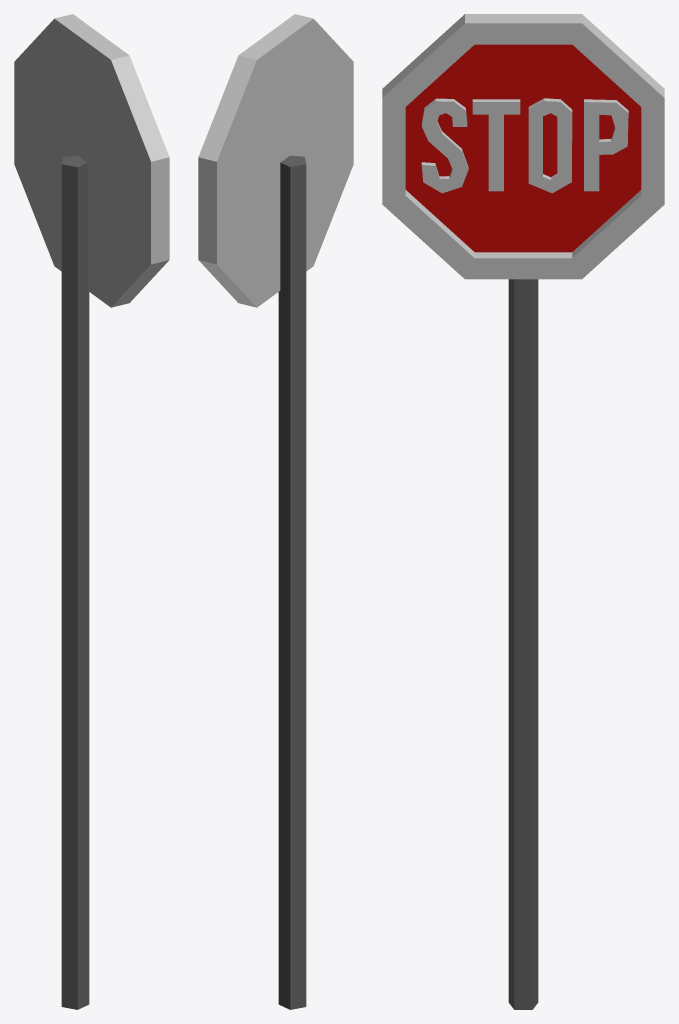
The model's file is prop_Sign_Stop.glb.
3 views of the same model, side by side, from view 1: azimuth 30°, elevation 25°; view 2: azimuth 150°, elevation 25°; view 3: azimuth 270°, elevation 25° (orthographic). The views are drawn at different scales.
Visible parts, largest first — view 1: Stop; view 2: Stop; view 3: Stop.
Part boxes in pixels (left/top/right/bottom): Stop: left=14, top=14, right=169, bottom=1009; Stop: left=198, top=14, right=353, bottom=1009; Stop: left=382, top=14, right=664, bottom=1009.
Bounding box in the file's own units: 0.1124 × 2.6 × 0.6695.
